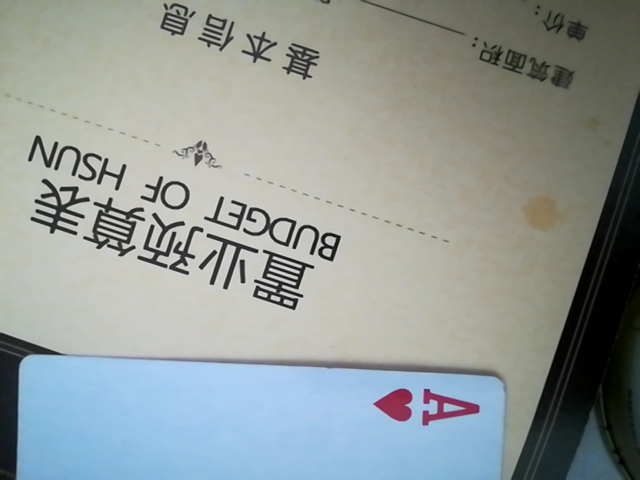hx a: (19, 352, 517, 480)
